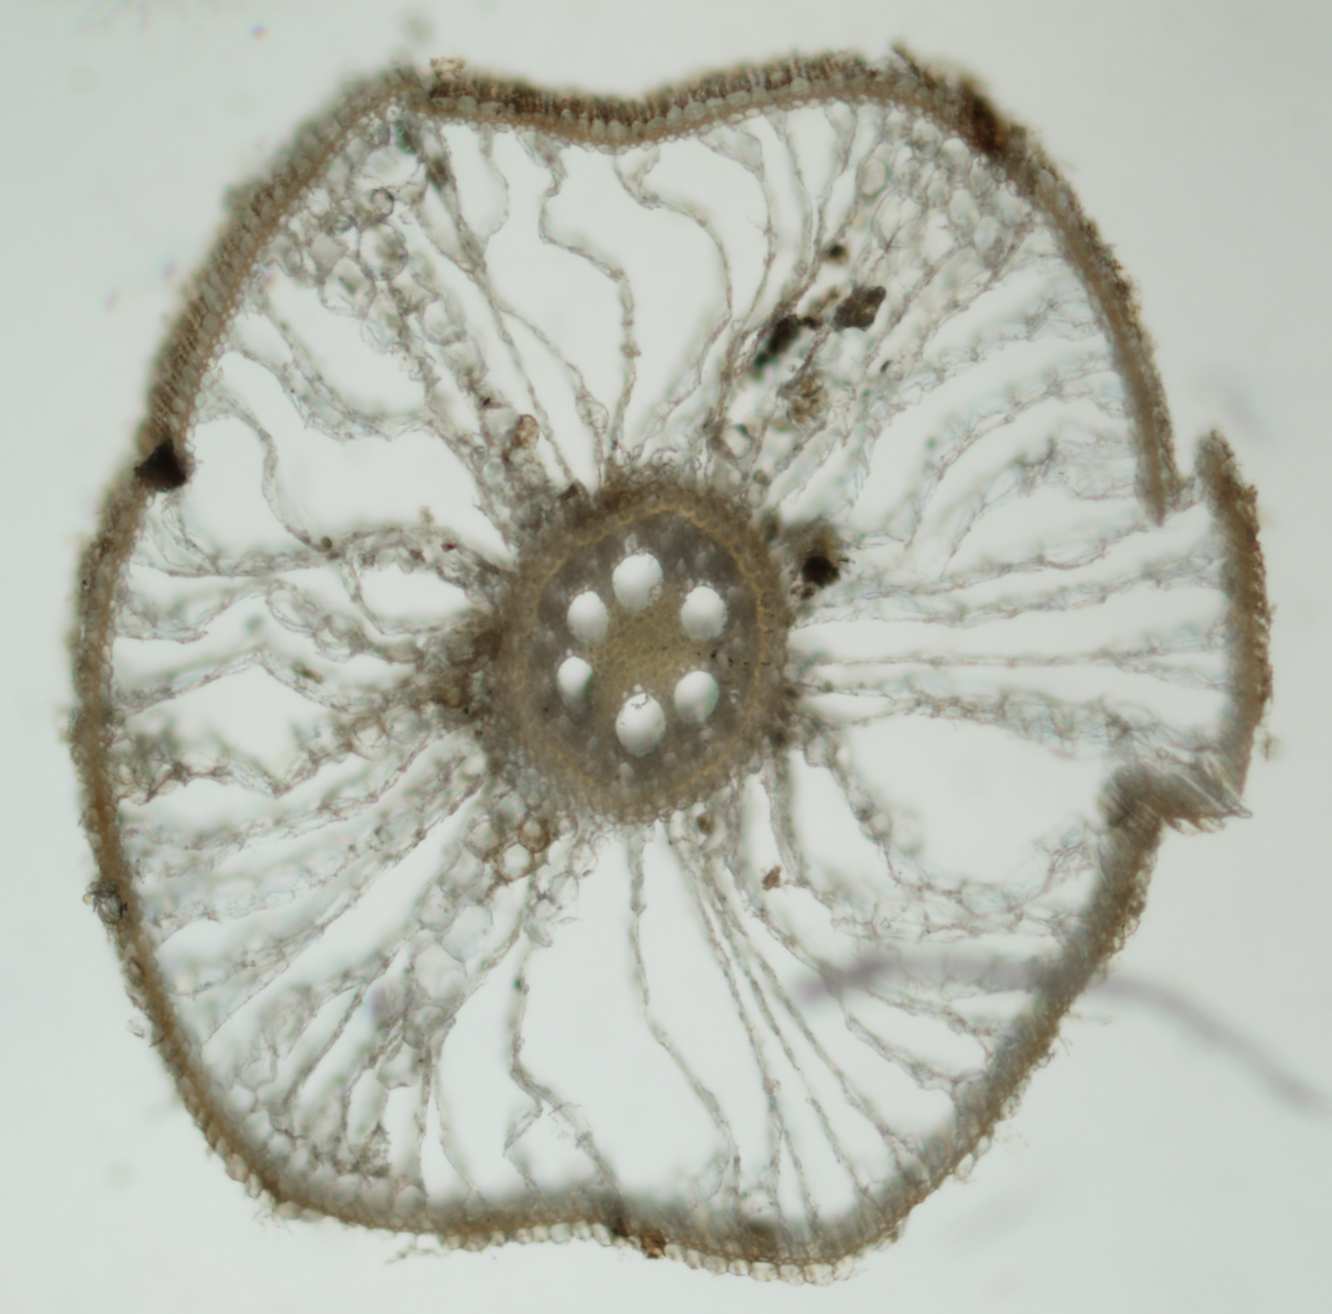lm: (615, 692, 667, 757), (612, 552, 663, 612), (680, 586, 728, 641), (674, 670, 720, 726), (566, 591, 610, 644), (556, 656, 593, 705)
